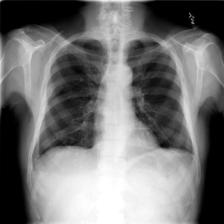normal: (30, 32, 200, 174)
